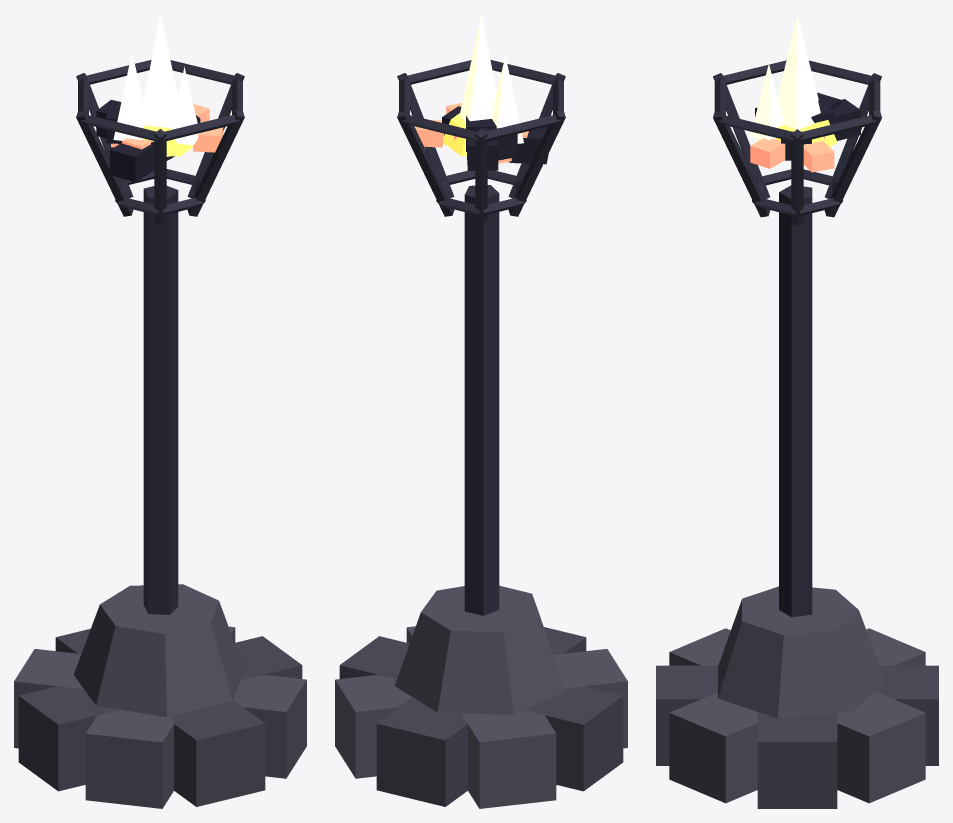
Rendered from cinder_cresset_lit.glb.
3 renders of one model, left to right at view 1: azimuth 30°, elevation 25°; view 2: azimuth 150°, elevation 25°; view 3: azimuth 270°, elevation 25°, orthographic.
Visible parts, largest first — view 1: ink_l10, ink_l20, ink_l25, ink_l26, kindle_l15_glow, ink_l4, coal_l10_glow; view 2: ink_l10, ink_l20, ink_l25, ink_l26, kindle_l15_glow, ink_l4, coal_l10_glow; view 3: ink_l10, ink_l26, ink_l25, ink_l20, kindle_l15_glow, coal_l10_glow, ink_l4.
Part boxes in pixels (x1=…): ink_l10: x1=76, y1=59, x2=244, y2=614; ink_l20: x1=18, y1=629, x2=302, y2=806; ink_l25: x1=73, y1=584, x2=244, y2=717; ink_l26: x1=14, y1=626, x2=306, y2=808; kindle_l15_glow: x1=113, y1=14, x2=198, y2=145; ink_l4: x1=96, y1=99, x2=200, y2=181; coal_l10_glow: x1=111, y1=103, x2=223, y2=156; ink_l10: x1=397, y1=59, x2=565, y2=615; ink_l20: x1=339, y1=627, x2=623, y2=806; ink_l25: x1=394, y1=585, x2=565, y2=714; ink_l26: x1=335, y1=626, x2=627, y2=808; kindle_l15_glow: x1=460, y1=14, x2=523, y2=143; ink_l4: x1=442, y1=106, x2=548, y2=170; coal_l10_glow: x1=415, y1=103, x2=528, y2=163; ink_l10: x1=713, y1=60, x2=881, y2=617; ink_l26: x1=669, y1=628, x2=925, y2=803; ink_l25: x1=718, y1=586, x2=885, y2=718; ink_l20: x1=656, y1=665, x2=938, y2=808; kindle_l15_glow: x1=750, y1=14, x2=820, y2=140; coal_l10_glow: x1=750, y1=136, x2=834, y2=172; ink_l4: x1=755, y1=92, x2=860, y2=160.
Bounding box in the file's own units: 0.92 × 2.64 × 0.92.
